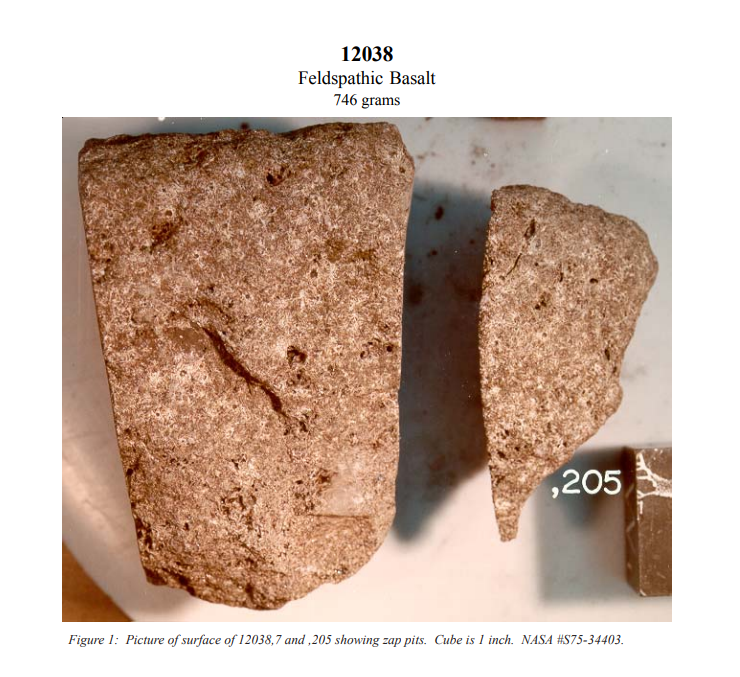Basalt: (62, 117, 435, 613), (463, 153, 651, 588), (127, 204, 340, 518), (505, 263, 590, 423)
